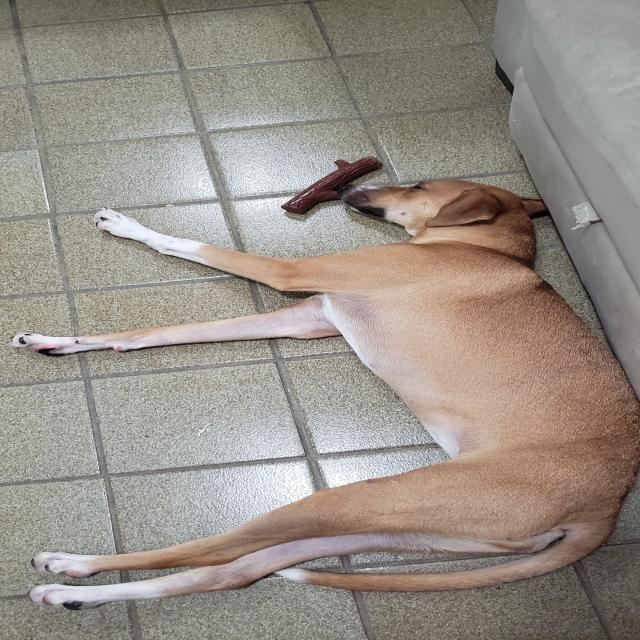laying down: (6, 174, 640, 619)
